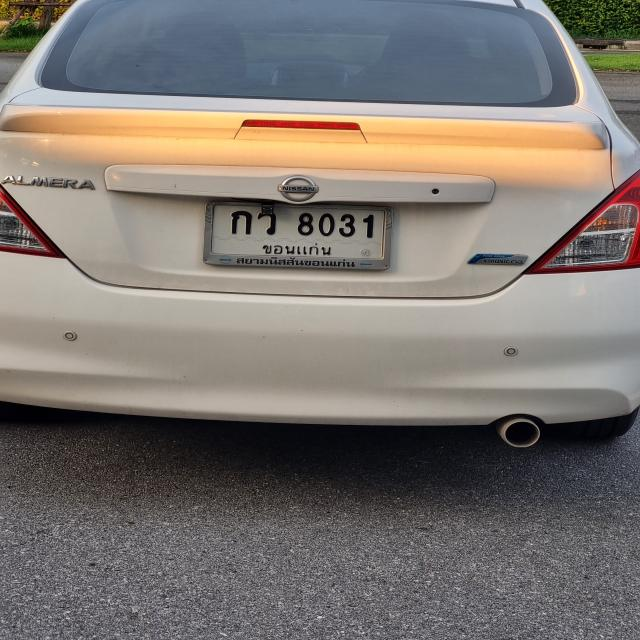license_plate: (204, 197, 395, 272)
